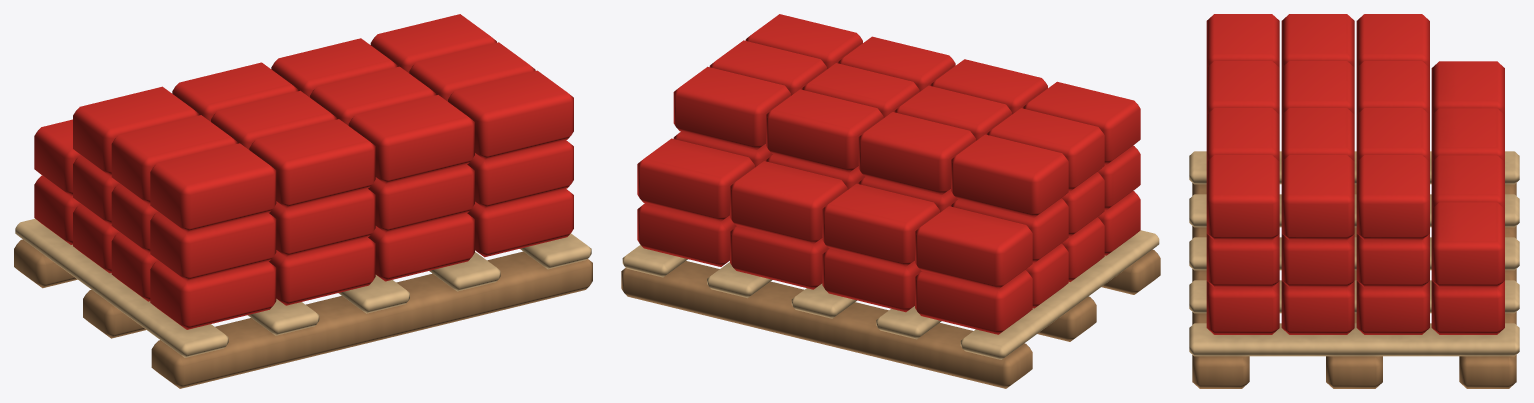
Rendered from brick-stack.fbx.
3 renders of one model, left to right at view 1: azimuth 30°, elevation 25°; view 2: azimuth 150°, elevation 25°; view 3: azimuth 270°, elevation 25°, orthographic. The views are drawn at different scales.
Parts seen in each view (by area): view 1: brick-stack; view 2: brick-stack; view 3: brick-stack.
Part boxes in pixels (x1,y1,x2,y2): brick-stack: (14,14,592,388); brick-stack: (621,14,1160,388); brick-stack: (1189,14,1519,388).
Size of the model in its own units: 760 by 337 by 534.
Materials: 1 (1 with a texture image).
